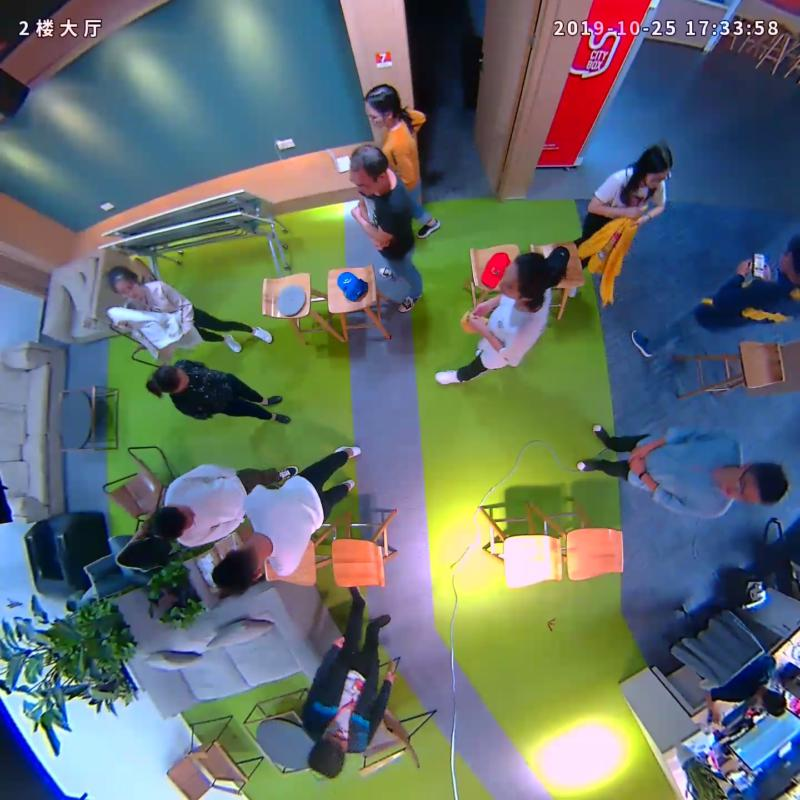head: (721, 461, 788, 507), (210, 544, 262, 596), (349, 144, 391, 197), (500, 252, 547, 299), (309, 725, 349, 779), (365, 84, 401, 128), (152, 504, 196, 539), (640, 144, 673, 190), (109, 266, 145, 301), (150, 365, 188, 393)
